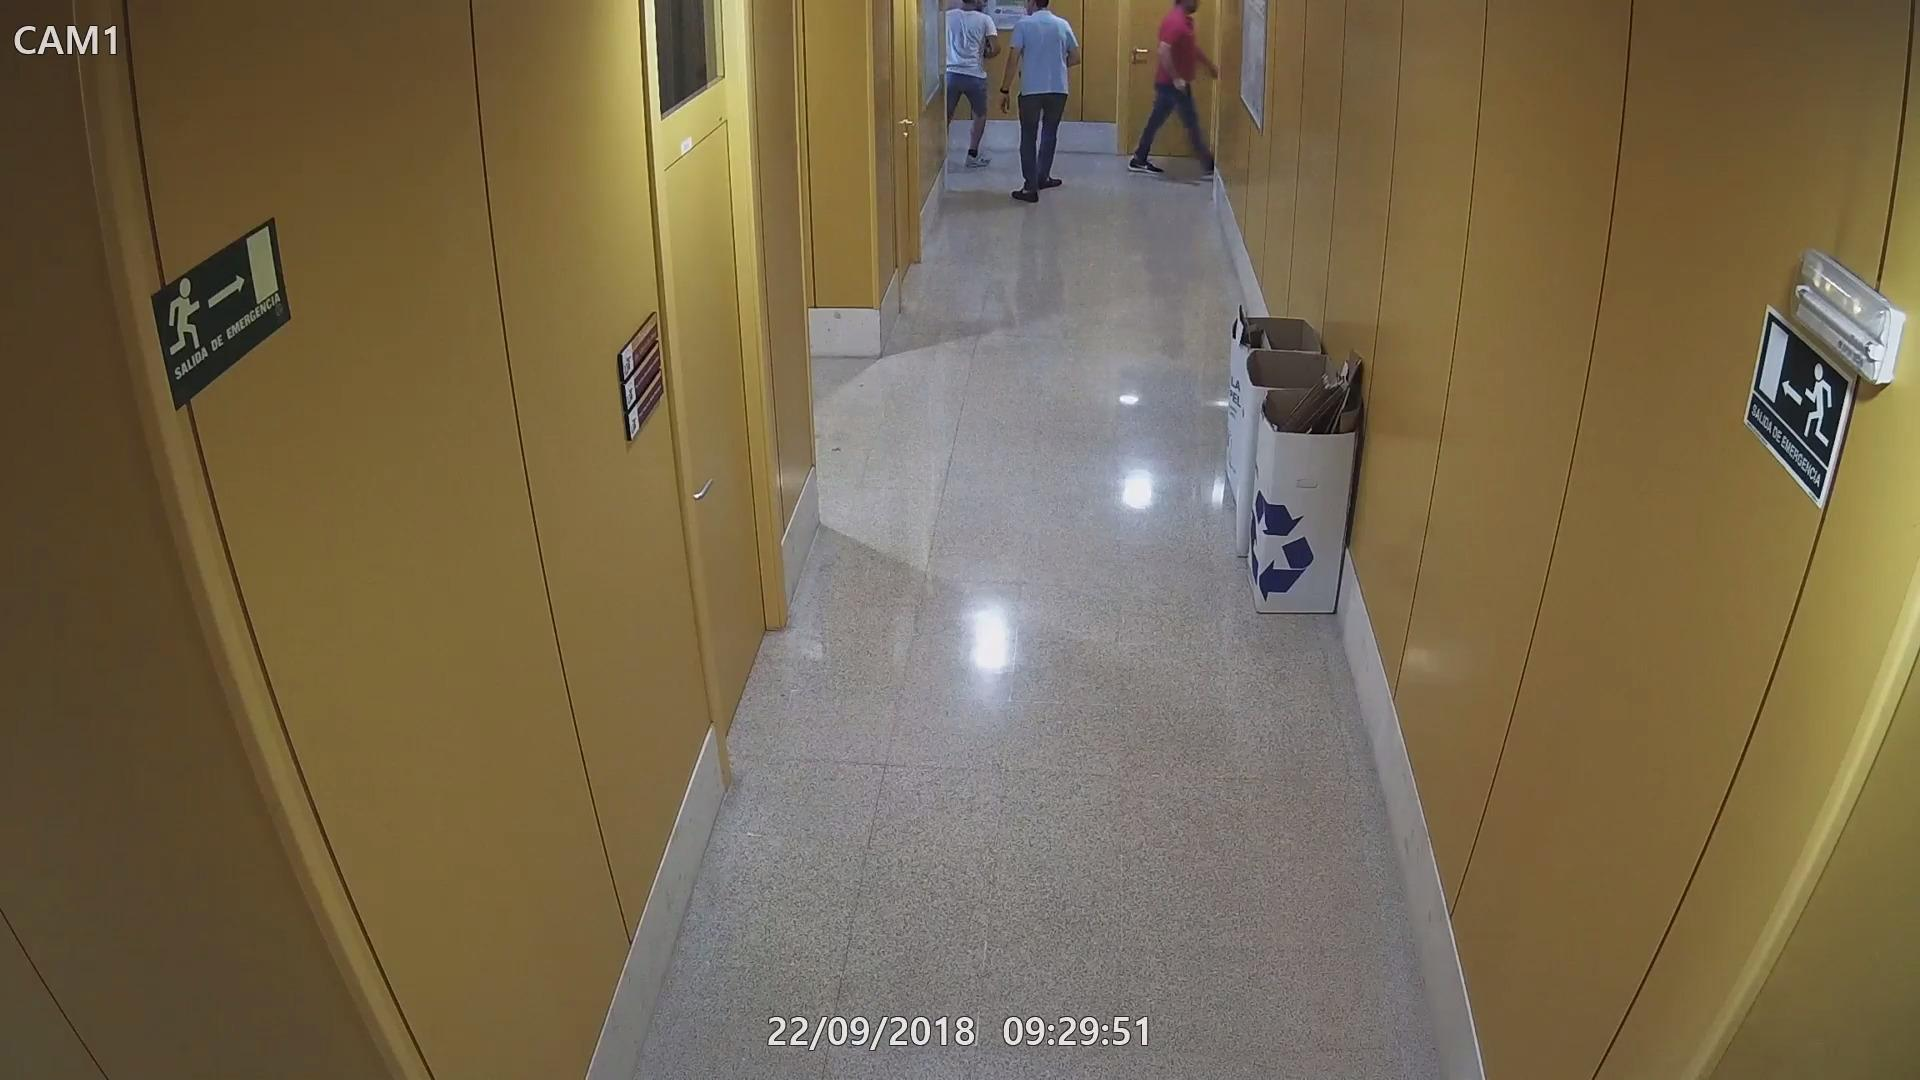Handgun: (1168, 74, 1196, 100)
